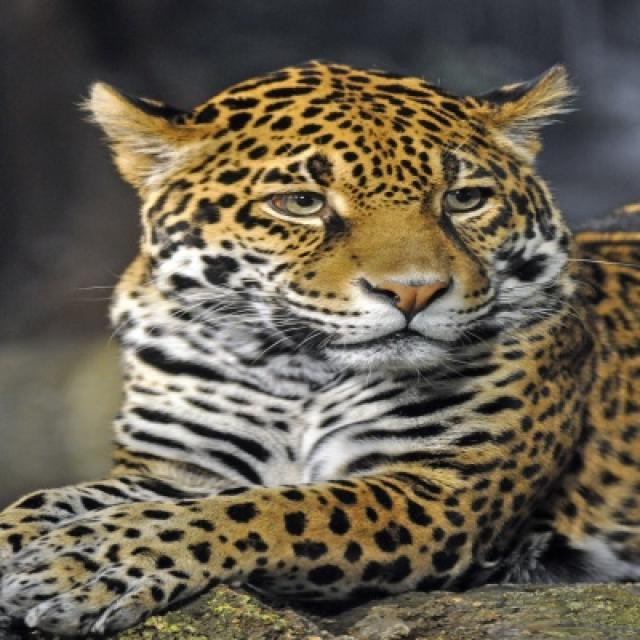Jaguar: (0, 61, 638, 638)
